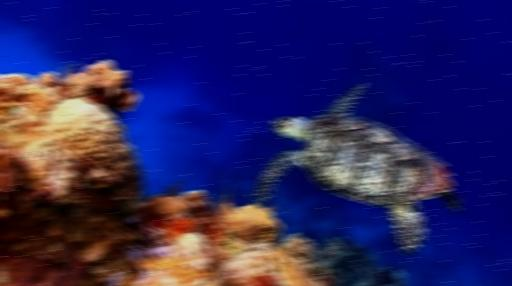Fish: (254, 84, 462, 253)
